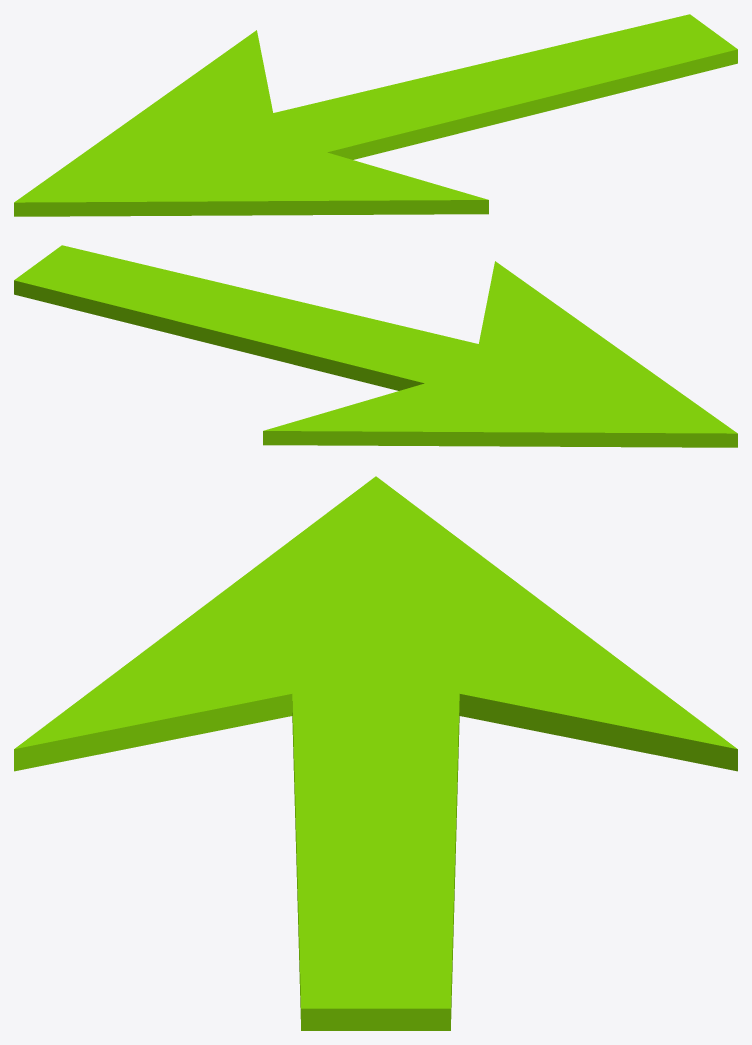
Rendered from Arrow.fbx.
3 renders of one model, top to bottom at view 1: azimuth 30°, elevation 25°; view 2: azimuth 150°, elevation 25°; view 3: azimuth 270°, elevation 25°, orthographic. The views are drawn at different scales.
Parts seen in each view (by area): view 1: Arrow; view 2: Arrow; view 3: Arrow.
Part boxes in pixels (x1,y1,x2,y2): Arrow: (14,14,737,216); Arrow: (14,245,737,447); Arrow: (14,476,737,1030).
Size of the model in its own units: 322 by 6.26 by 185.
